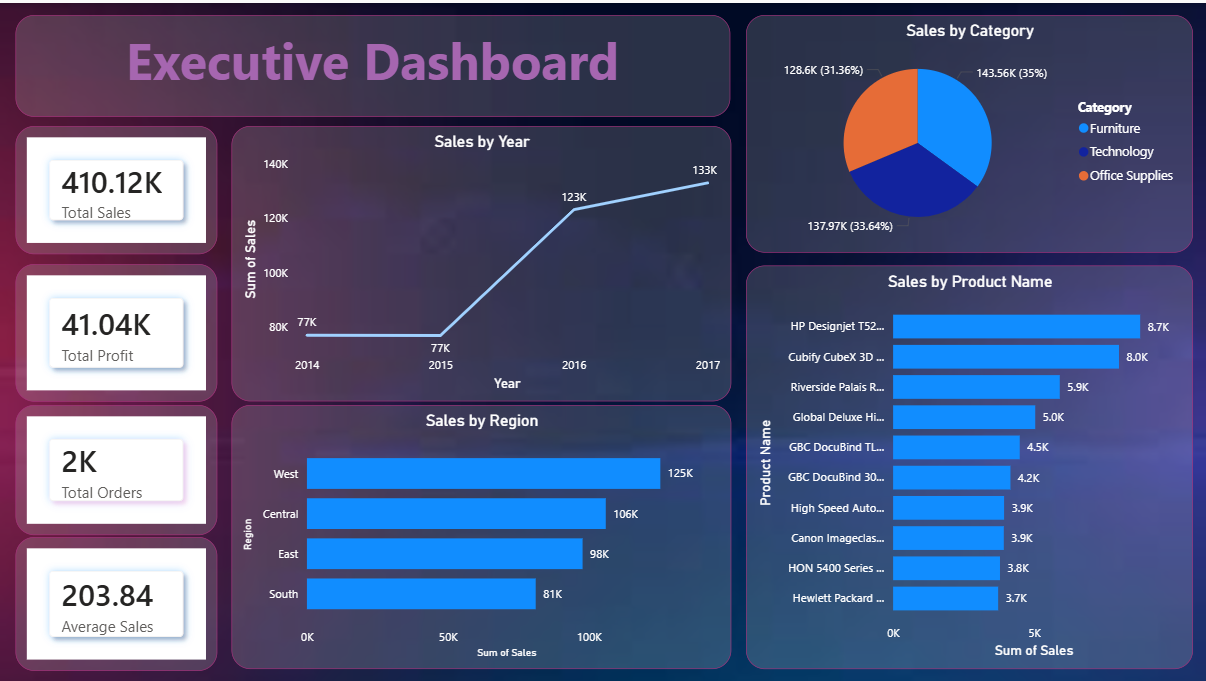

The page's visual inventory and layout, read from the dashboard file:
{"tool":"powerbi","page":{"name":"Page 1","canvas":[1280,720],"ordinal":0},"visuals":[{"type":"textbox","box":[17,0,1249.1,85],"z":0},{"type":"cardVisual","fields":{"Data":["Superstore.Total Sales"]},"box":[17,105.8,296.7,134.2],"z":1000},{"type":"cardVisual","fields":{"Data":["Superstore.Total Profit"]},"box":[17,264.6,296.7,134.2],"z":2000},{"type":"cardVisual","fields":{"Data":["Superstore.Average Sales"]},"box":[17,572.6,296.7,134.2],"z":3000},{"type":"cardVisual","fields":{"Data":["Superstore.Total Orders"]},"box":[17,425.2,296.7,122.8],"z":4000},{"type":"lineChart","fields":{"Category":["Superstore.Order Date.Variation.Date Hierarchy.Year","Superstore.Order Date.Variation.Date Hierarchy.Quarter","Superstore.Order Date.Variation.Date Hierarchy.Month","Superstore.Order Date.Variation.Date Hierarchy.Day"],"Y":["Sum(Superstore.Sales)"]},"box":[326.9,105.8,480,292.9],"z":5000},{"type":"barChart","fields":{"Category":["Superstore.Region"],"Y":["Sum(Superstore.Sales)"]},"box":[326.9,425.2,480,281.6],"z":6000},{"type":"pieChart","fields":{"Category":["Superstore.Category"],"Y":["Sum(Superstore.Sales)"]},"box":[822.1,105.8,444.1,253.2],"z":7000},{"type":"clusteredBarChart","fields":{"Category":["Superstore.Product Name"],"Y":["Sum(Superstore.Sales)"]},"box":[822.1,372.3,444.1,334.5],"z":8000}]}

Visuals, with their boxes in screenshot pixels (x1, y1, x2, y2), scaled from the page's 1280x720 canvas onto the 1206x681 screenshot:
textbox: select_region(16, 0, 1193, 80)
cardVisual - Superstore.Total Sales: select_region(16, 100, 296, 227)
cardVisual - Superstore.Total Profit: select_region(16, 250, 296, 377)
cardVisual - Superstore.Average Sales: select_region(16, 542, 296, 669)
cardVisual - Superstore.Total Orders: select_region(16, 402, 296, 518)
lineChart - Superstore.Order Date.Variation.Date Hierarchy.Year x Superstore.Order Date.Variation.Date Hierarchy.Quarter: select_region(308, 100, 760, 377)
barChart - Superstore.Region x Sum(Superstore.Sales): select_region(308, 402, 760, 669)
pieChart - Superstore.Category x Sum(Superstore.Sales): select_region(775, 100, 1193, 340)
clusteredBarChart - Superstore.Product Name x Sum(Superstore.Sales): select_region(775, 352, 1193, 669)
